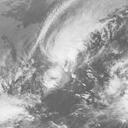cyclone: (39, 31, 72, 89), (102, 67, 127, 116)
